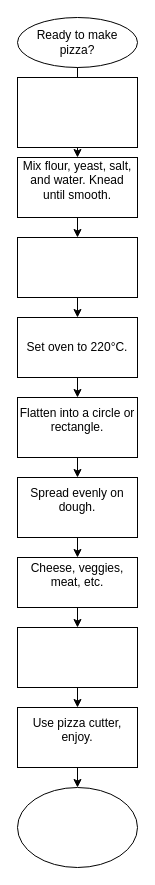
This 155x885 diagram has some shape labels left out. The centre of each missing label's shape, as x and y in pixels:
"12–15 minutes or until golden." belongs at (x=77, y=657).
"Cover and let rest for 1–2 hours." belongs at (x=77, y=267).
"Gather flour, yeast, water, salt, olive oil, sauce, cheese, toppings." belongs at (x=77, y=112).
"Pizza is ready!" belongs at (x=77, y=827).
